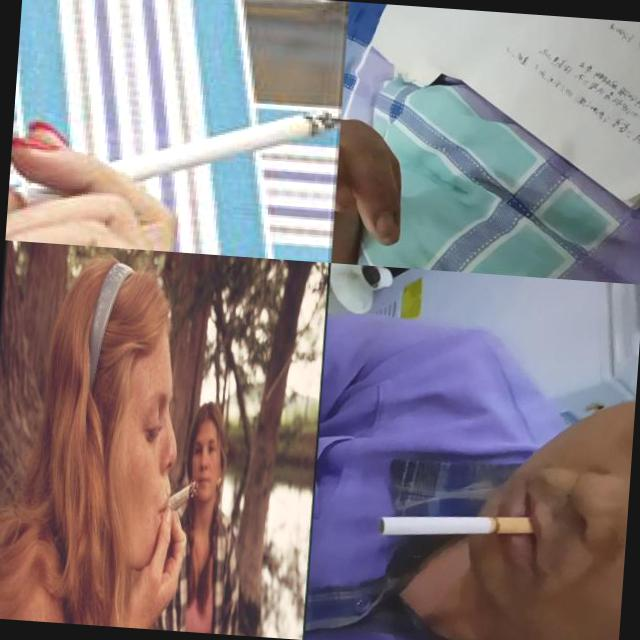smoke: (19, 84, 342, 229), (377, 507, 535, 548), (162, 478, 198, 514)
